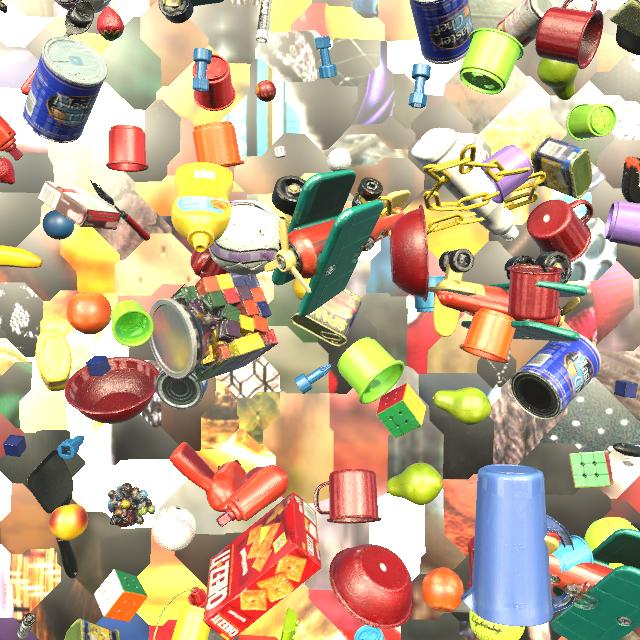ycb_002_master_chef_can: (22, 36, 108, 143), (509, 334, 602, 420), (409, 0, 473, 64)
ycb_003_cracker_box: (203, 492, 322, 640)
ycb_005_tomato_soup_can: (496, 0, 560, 48)
ycb_006_mustard_bottle: (171, 162, 233, 253), (35, 329, 71, 391)
ycb_007_tuna_fish_can: (155, 369, 208, 410)
ycb_008_pudding_box: (38, 181, 121, 230)
ycb_010_potted_meat_can: (291, 289, 362, 346), (531, 134, 593, 199), (64, 619, 120, 640)
ycb_011_banana: (0, 245, 43, 268)
ycb_012_strawberry: (97, 6, 124, 41), (0, 156, 15, 184)
ycb_014_lemon: (292, 278, 310, 300)
ycb_015_peach: (49, 504, 88, 541)
ycb_016_pear: (387, 462, 443, 505), (432, 387, 492, 425), (538, 58, 579, 100)
ycb_017_orange: (66, 293, 112, 335), (422, 567, 464, 612)
